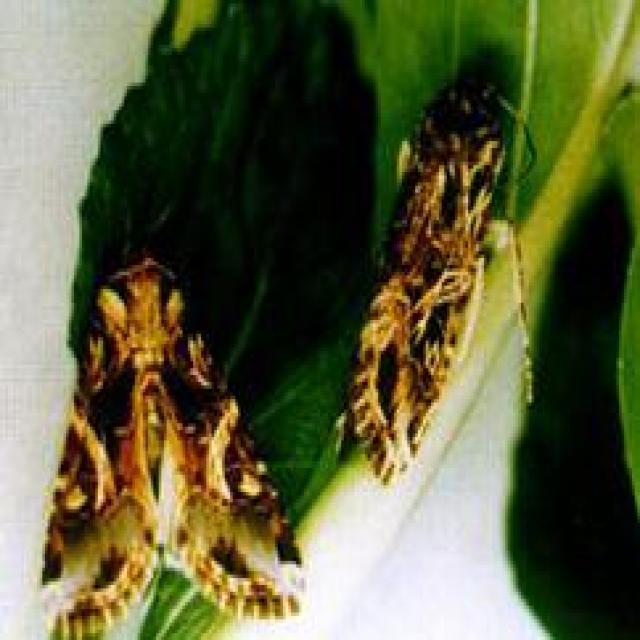armyworm: (61, 257, 291, 619), (359, 68, 505, 464)
